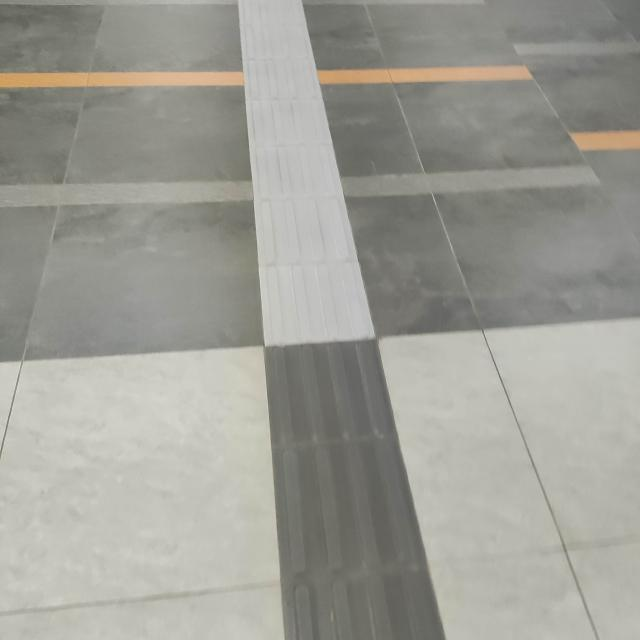lurus: (219, 0, 422, 640)
